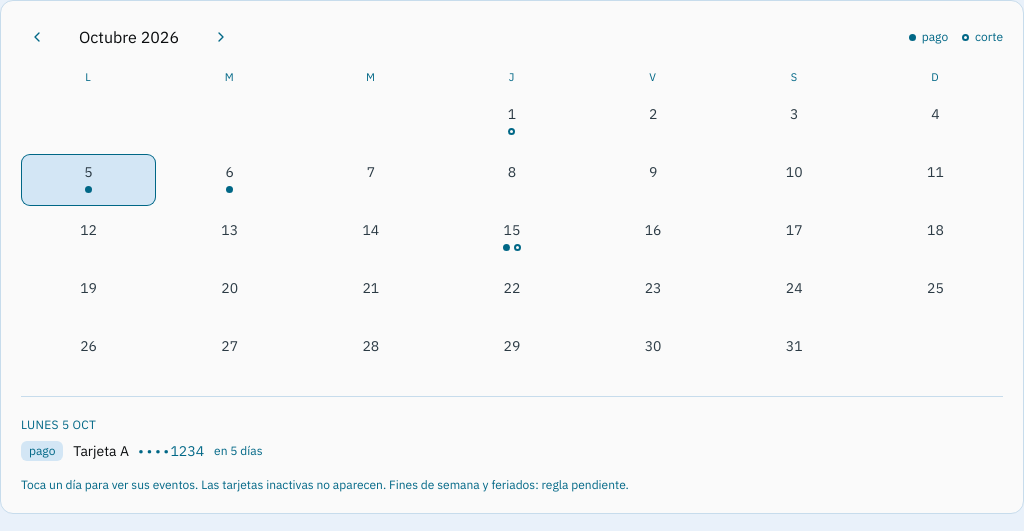
Test: CalendarioPagos · selección y detalle › el clic selecciona otro día y un día sin eventos lo dice
What coordinates should you click on to do the following:
click the cell named "2 de octubre"
I would click on:
 (653, 114)
Its box is [649,104,657,122].
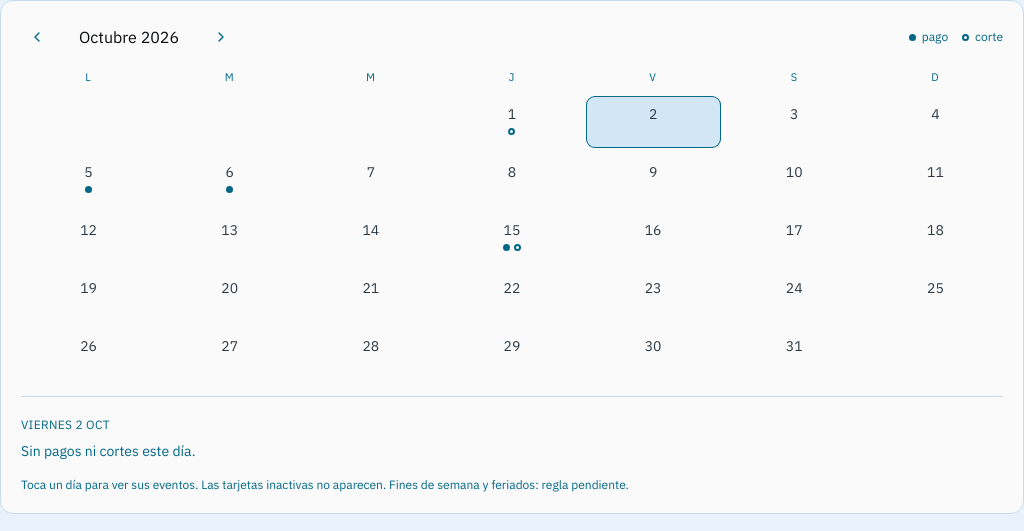
Check: the text "Sin pagos ni cortes este día." is shown, box [21,442,196,460]
